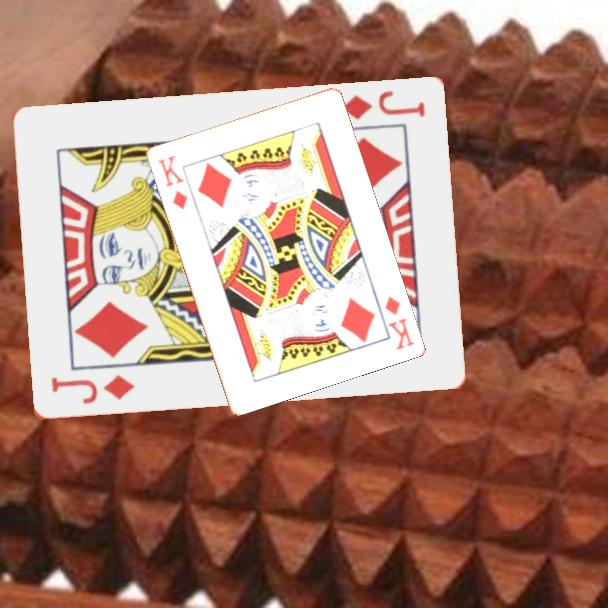d11: (337, 87, 428, 123), (47, 372, 137, 408)
d13: (153, 151, 190, 212), (381, 292, 417, 353)
